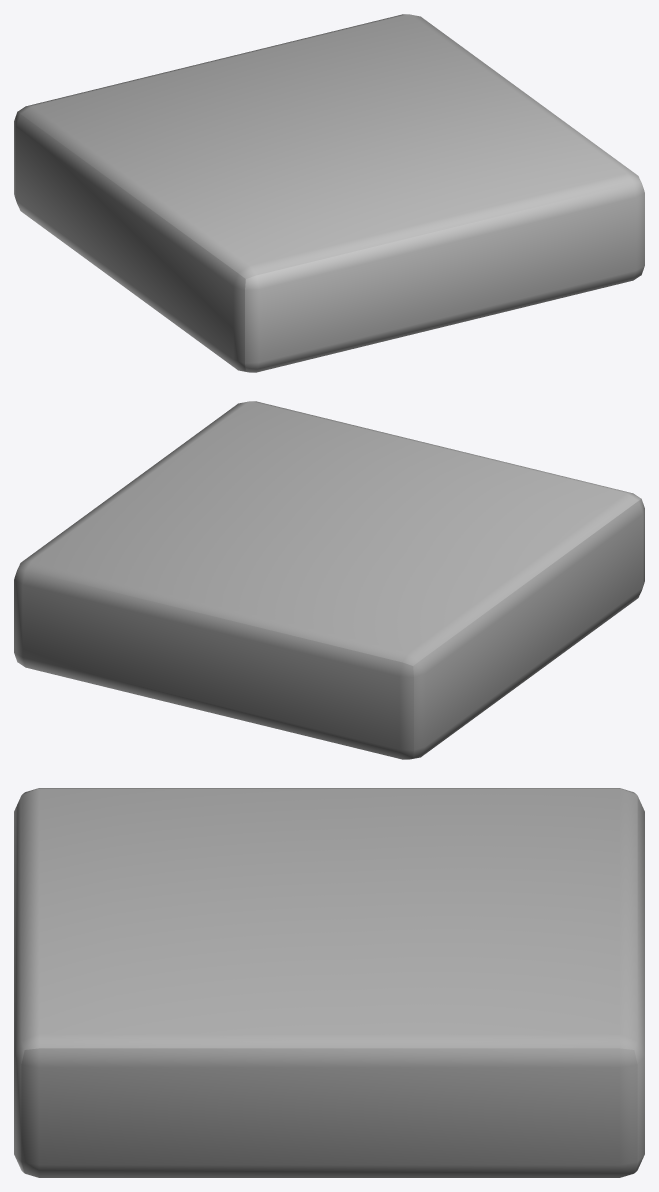
The model's file is TileGrey.fbx.
The picture shows the model from 3 angles, top to bottom: view 1: azimuth 30°, elevation 25°; view 2: azimuth 150°, elevation 25°; view 3: azimuth 270°, elevation 25°; orthographic projection. The views are drawn at different scales.
Parts seen in each view (by area): view 1: Cube.059; view 2: Cube.059; view 3: Cube.059.
Part boxes in pixels (x1,y1,x2,y2): Cube.059: (14, 14, 644, 372); Cube.059: (14, 401, 644, 759); Cube.059: (14, 788, 644, 1177).
Bounding box in the file's own units: 150 × 37.5 × 150.
